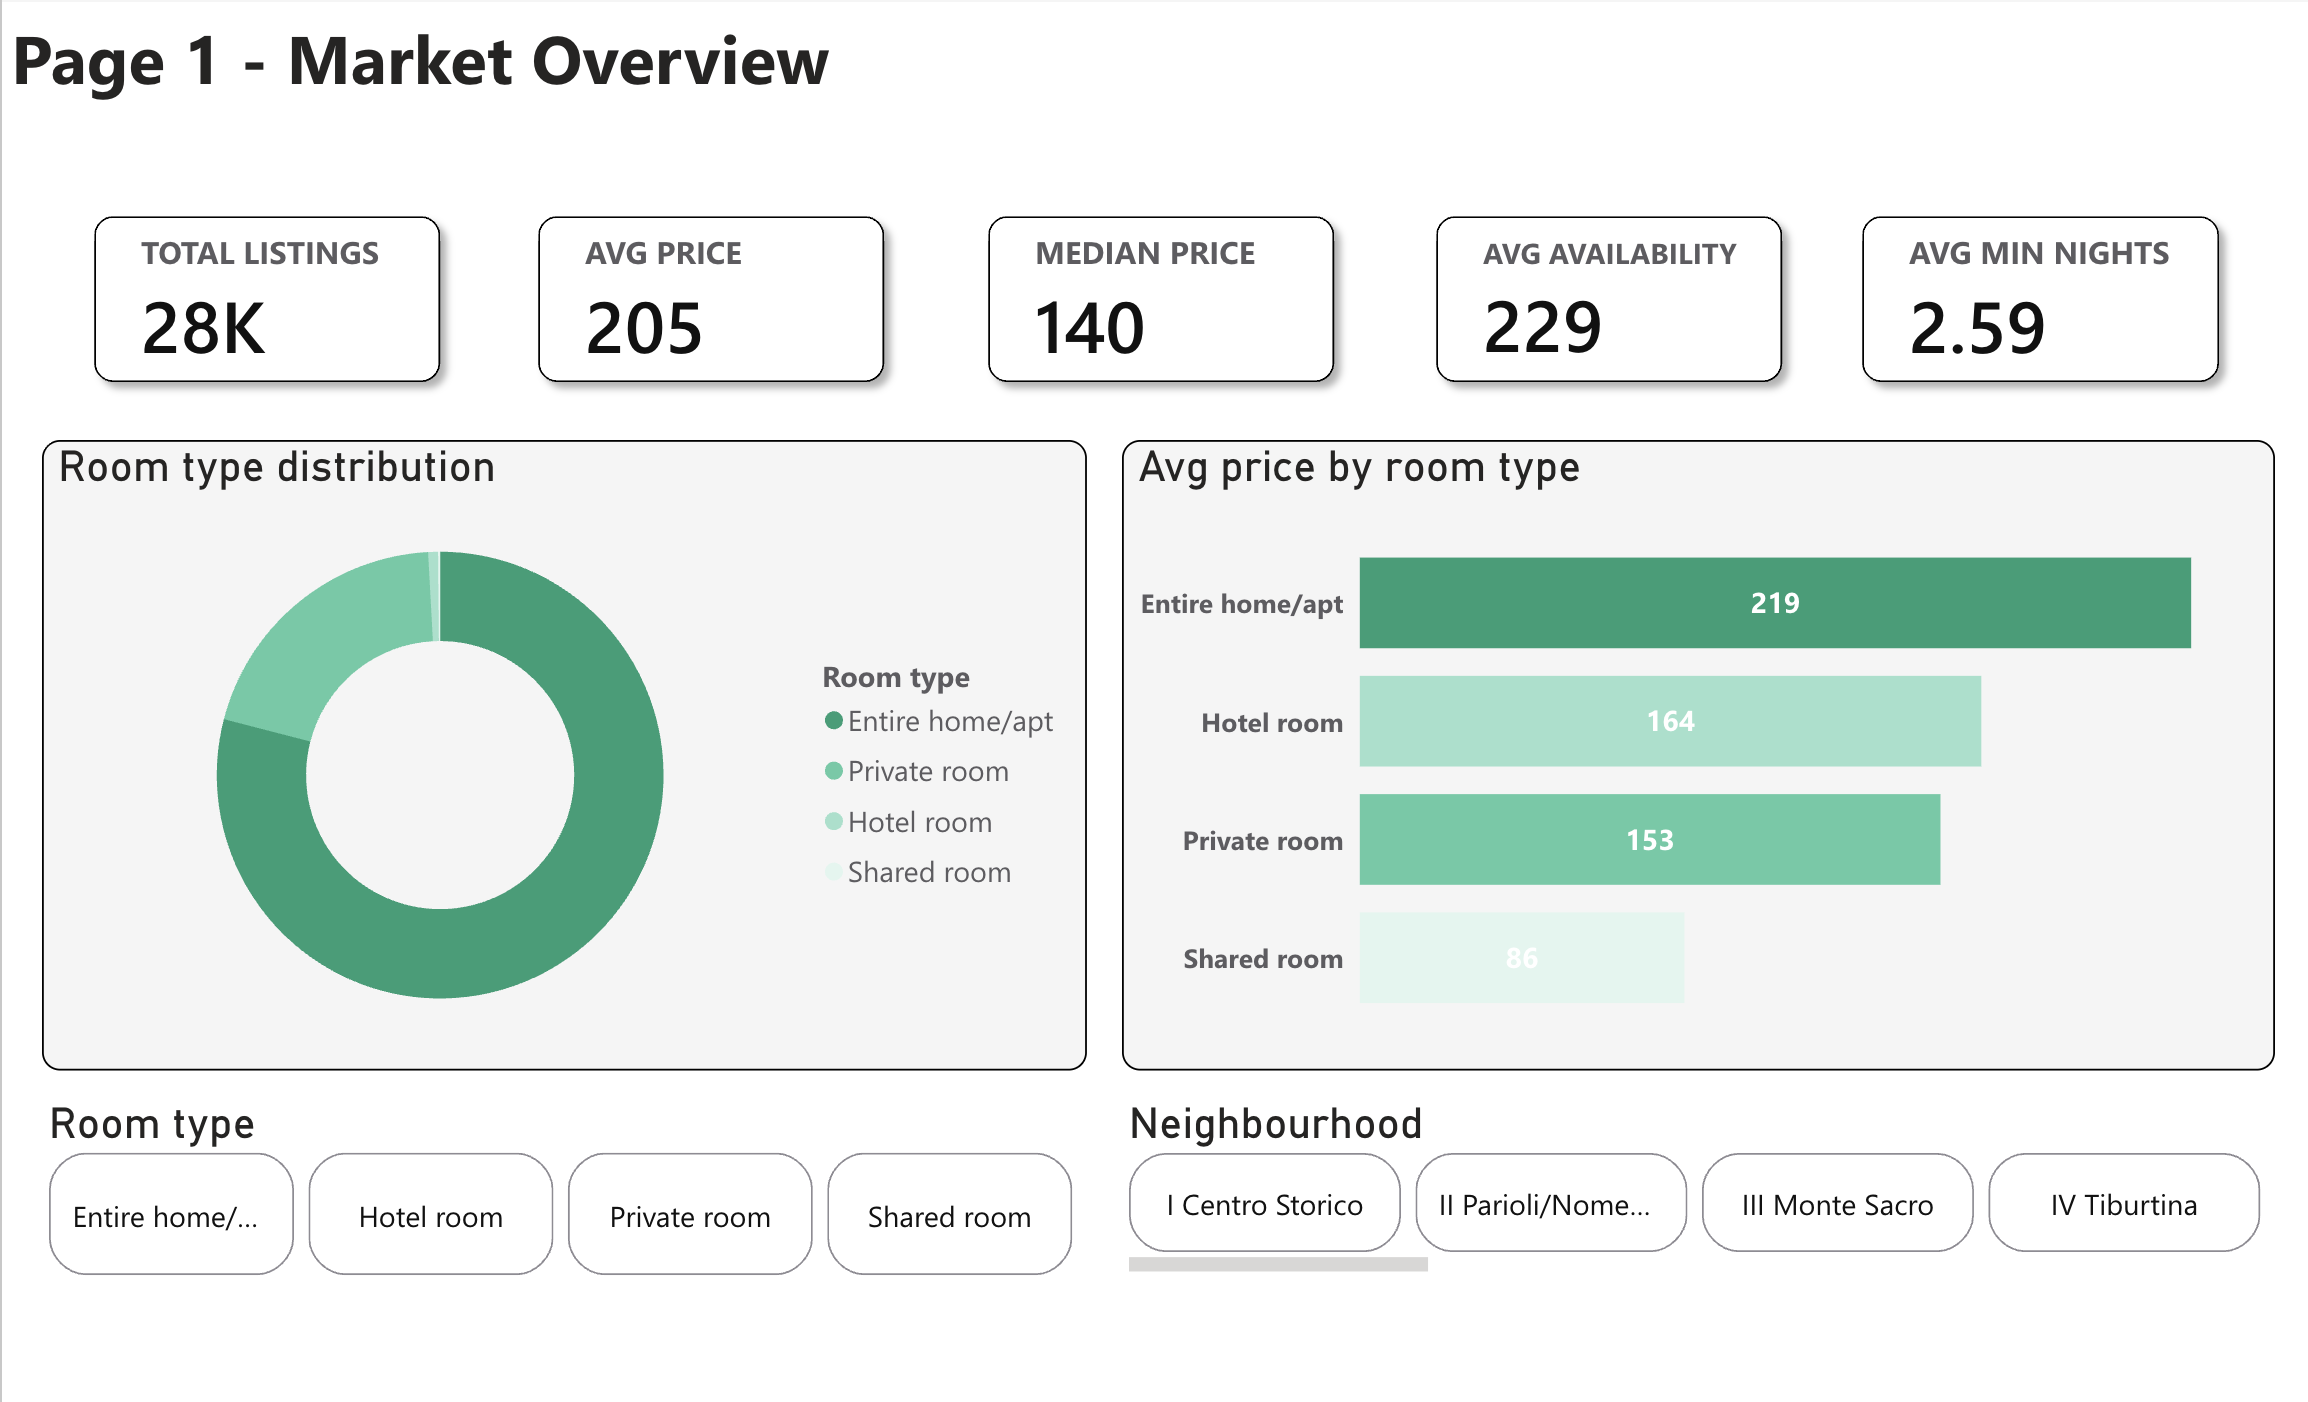

The dashboard page shown, as its layout file describes it:
{"tool":"powerbi","page":{"name":"Overview","canvas":[1280,720],"ordinal":0},"visuals":[{"type":"textbox","box":[0,0,1280,70],"z":0},{"type":"cardVisual","fields":{"Data":["AllMeasures.Total Listings"]},"box":[21.7,90,250,150],"z":1000},{"type":"cardVisual","fields":{"Data":["AllMeasures.Avg Price"]},"box":[269,90,250,150],"z":2000},{"type":"cardVisual","fields":{"Data":["AllMeasures.Median Price"]},"box":[518,90,250,150],"z":3000},{"type":"cardVisual","fields":{"Data":["AllMeasures.Avg availability"]},"box":[767,90,250,150],"z":4000},{"type":"cardVisual","fields":{"Data":["AllMeasures.Avg Minimum Nights"]},"box":[1004,90,256,150],"z":5000},{"type":"donutChart","title":"Room type distribution","fields":{"Y":["AllMeasures.Total Listings"],"Category":["airbnb_data.room_type"]},"box":[22.2,243.3,580,350],"z":6000},{"type":"barChart","title":"Avg price by room type","fields":{"Category":["airbnb_data.room_type"],"Y":["AllMeasures.Avg Price"]},"box":[621.7,243.3,640,350],"z":7000},{"type":"advancedSlicerVisual","fields":{"Values":["airbnb_data.room_type"]},"box":[20.9,611.6,579,100],"z":8000},{"type":"advancedSlicerVisual","fields":{"Values":["airbnb_data.neighbourhood"]},"box":[620.9,611.6,640,100],"z":9000}]}

Visuals, with their boxes on the page's 1280x720 design canvas (x1, y1, x2, y2). These are canvas units, not pixel positions in the 2308x1402 screenshot, which may show the page scaled, cropped or inside an application window:
textbox: bbox=(0, 0, 1280, 70)
cardVisual - AllMeasures.Total Listings: bbox=(22, 90, 272, 240)
cardVisual - AllMeasures.Avg Price: bbox=(269, 90, 519, 240)
cardVisual - AllMeasures.Median Price: bbox=(518, 90, 768, 240)
cardVisual - AllMeasures.Avg availability: bbox=(767, 90, 1017, 240)
cardVisual - AllMeasures.Avg Minimum Nights: bbox=(1004, 90, 1260, 240)
"Room type distribution" donutChart: bbox=(22, 243, 602, 593)
"Avg price by room type" barChart: bbox=(622, 243, 1262, 593)
advancedSlicerVisual - airbnb_data.room_type: bbox=(21, 612, 600, 712)
advancedSlicerVisual - airbnb_data.neighbourhood: bbox=(621, 612, 1261, 712)
